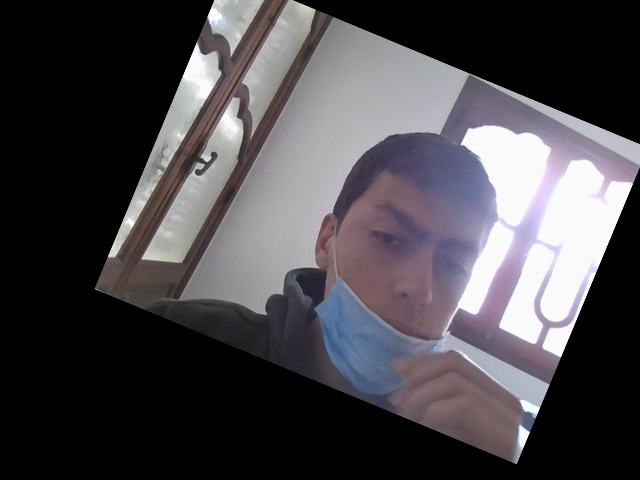mask_weared_incorrect: (325, 146, 484, 395)
